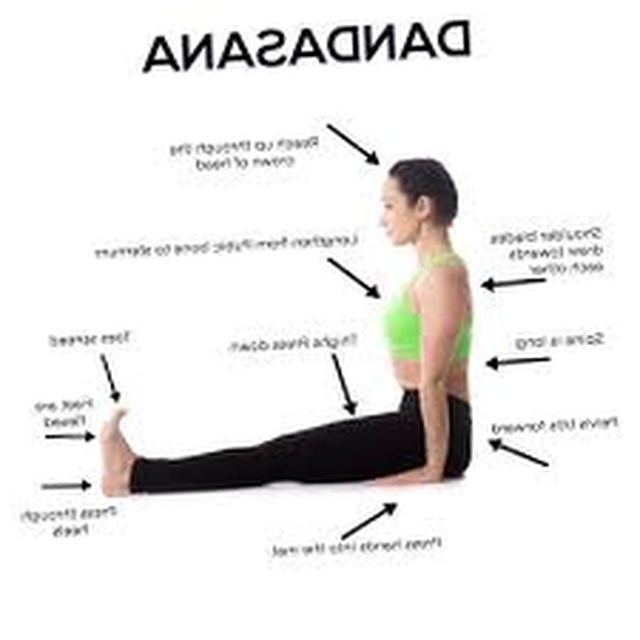Staff_Pose: (98, 157, 475, 498)
